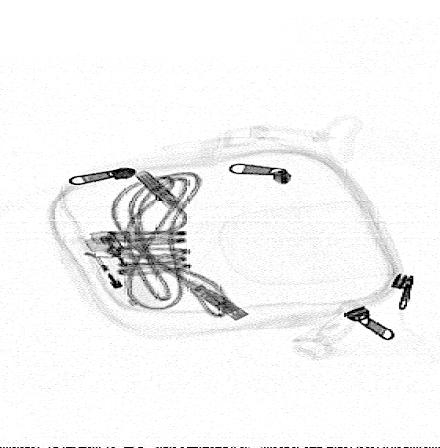Lighter: (80, 231, 158, 311)
